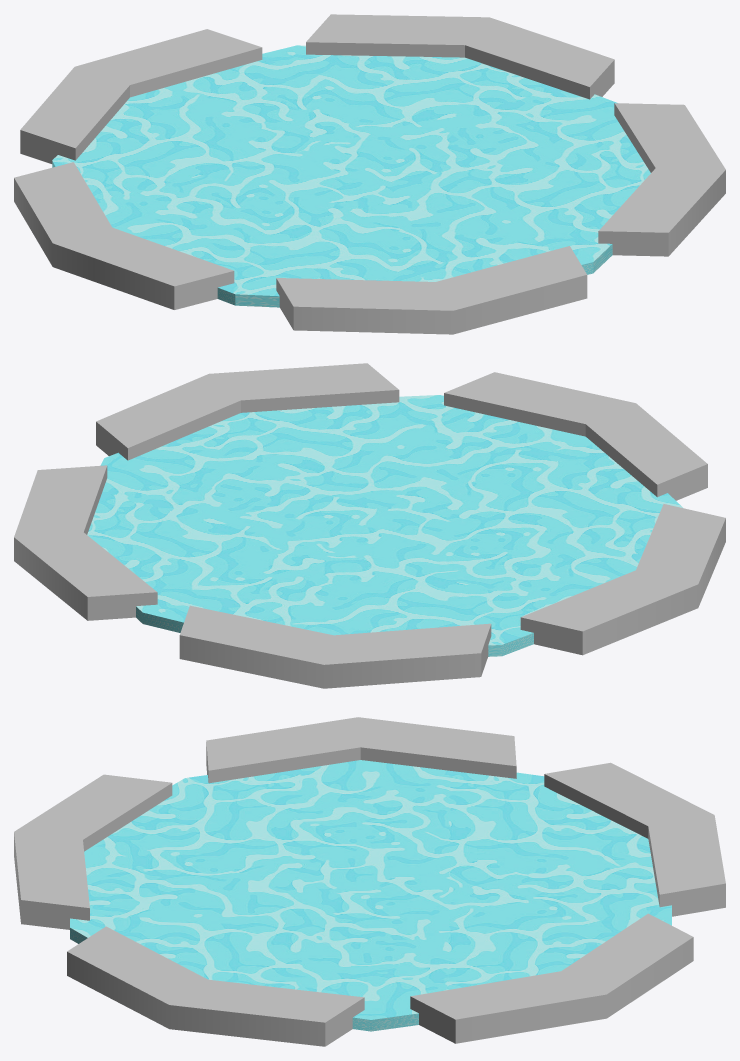
Rendered from shui.FBX.
3 views of the same model, one above another, from view 1: azimuth 30°, elevation 25°; view 2: azimuth 150°, elevation 25°; view 3: azimuth 270°, elevation 25° (orthographic).
Parts seen in each view (by area): view 1: shui; view 2: shui; view 3: shui.
Part boxes in pixels (bbox=[...]): shui: bbox=[14, 14, 725, 334]; shui: bbox=[14, 363, 725, 688]; shui: bbox=[14, 717, 725, 1046].
Size of the model in its own units: 152 by 5.61 by 150.
